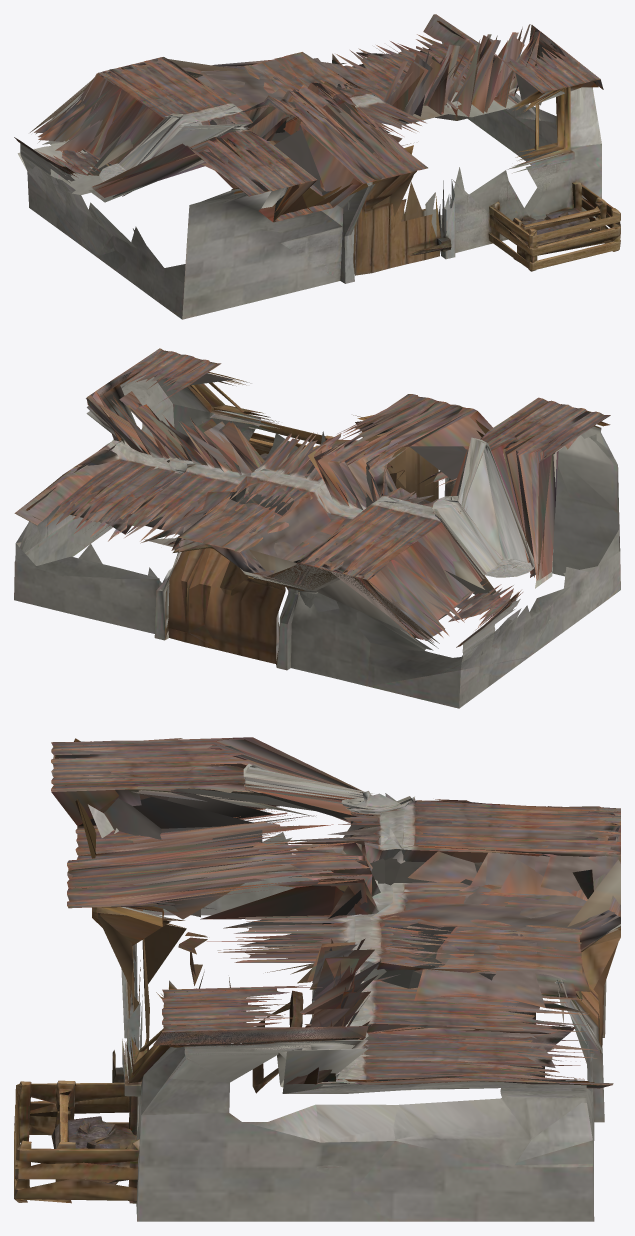
The model's file is shanty_wreck.glb.
3 views of the same model, one above another, from view 1: azimuth 30°, elevation 25°; view 2: azimuth 150°, elevation 25°; view 3: azimuth 270°, elevation 25° (orthographic). The views are drawn at different scales.
Parts seen in each view (by area): view 1: wall.001, roof.001; view 2: wall.001, roof.001; view 3: wall.001, roof.001.
Part boxes in pixels (x1,y1,x2,y2): wall.001: [14, 17, 620, 319]; roof.001: [14, 14, 603, 220]; wall.001: [14, 349, 620, 708]; roof.001: [15, 348, 600, 647]; wall.001: [14, 737, 620, 1221]; roof.001: [51, 741, 620, 1084].
Bounding box in the file's own units: 5.79 × 1.86 × 4.7.
1 material, 1 textured.
